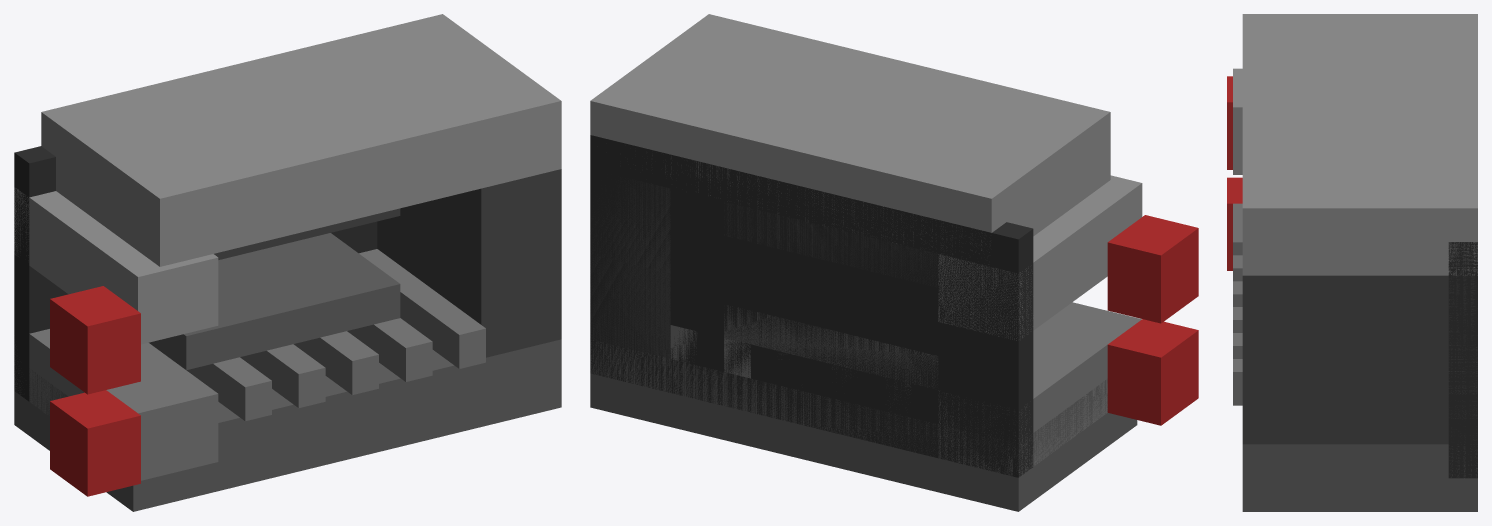
File: CMU3DWallCapacitorRechargerCloud.glb
3 renders of one model, left to right at view 1: azimuth 30°, elevation 25°; view 2: azimuth 150°, elevation 25°; view 3: azimuth 270°, elevation 25°, orthographic.
Parts seen in each view (by area): view 1: upper long housing, lower long housing, right insertion stop, lower inner guide, upper jaw shoulder, lower jaw shoulder, upper red contact, lower red contact, rear mounting plate, lower connector slot rib 16, lower connector slot rib 10, lower connector slot rib 14 (+3 smaller); view 2: rear mounting plate, upper long housing, lower long housing, upper jaw shoulder, lower jaw shoulder, right insertion stop, upper red contact, lower red contact, lower inner guide, upper inner guide, lower connector slot rib 14, lower connector slot rib 16; view 3: upper long housing, right insertion stop, lower long housing, rear mounting plate, upper jaw shoulder, lower red contact, upper red contact, lower jaw shoulder, lower connector slot rib 16.
Boxes of the visible parts, x1,y1,x2,y2 form: upper long housing: (41,14,561,266); lower long housing: (14,339,561,511); right insertion stop: (377,169,561,357); lower inner guide: (149,233,400,370); upper jaw shoulder: (14,187,218,344); lower jaw shoulder: (14,329,218,480); upper red contact: (50,286,140,394); lower red contact: (50,390,140,496); rear mounting plate: (14,146,377,401); lower connector slot rib 16: (359,249,485,368); lower connector slot rib 10: (240,344,325,407); lower connector slot rib 14: (347,318,432,381); rear mounting plate: (590,135,1033,477); upper long housing: (590,14,1110,264); lower long housing: (590,340,1137,511); upper jaw shoulder: (938,175,1142,340); lower jaw shoulder: (938,302,1141,476); right insertion stop: (590,177,670,358); upper red contact: (1107,215,1198,323); lower red contact: (1107,319,1198,425); lower inner guide: (724,305,938,388); upper inner guide: (724,202,938,287); lower connector slot rib 14: (724,338,750,378); lower connector slot rib 16: (670,325,697,362); upper long housing: (1242,14,1477,275); right insertion stop: (1242,275,1477,444); lower long housing: (1242,444,1477,511); rear mounting plate: (1448,242,1477,478); upper jaw shoulder: (1233,68,1242,174); lower red contact: (1227,177,1242,270); upper red contact: (1227,76,1232,169); lower jaw shoulder: (1233,203,1242,255); lower connector slot rib 16: (1233,359,1242,405).
Size of the model in its own units: 0.5625 by 0.342 by 0.256.
